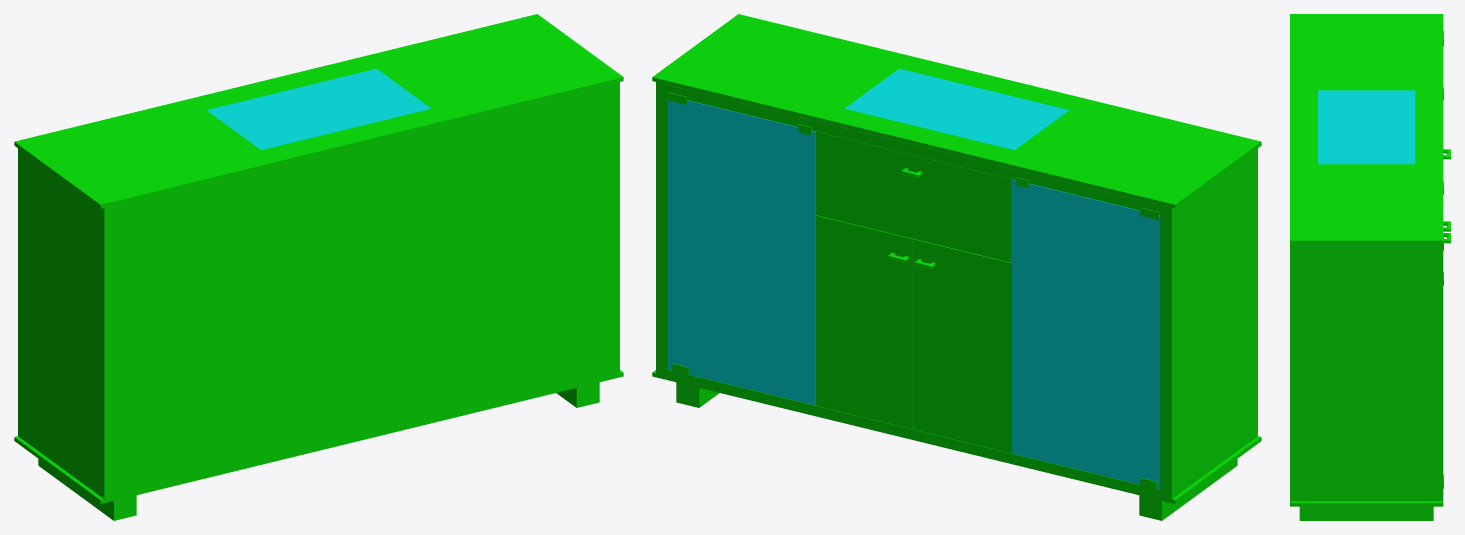
File: AparadorASpenG_low.fbx
3 renders of one model, left to right at view 1: azimuth 30°, elevation 25°; view 2: azimuth 150°, elevation 25°; view 3: azimuth 270°, elevation 25°, orthographic. The views are drawn at different scales.
Parts seen in each view (by area): view 1: Top, CristalTop; view 2: Top, PuertaDerecha1, PuertaIzquierda1, PDerecha, PIzquierda, Cajon, CristalTop; view 3: Top, CristalTop.
Part boxes in pixels (x1,y1,x2,y2): Top: (14, 14, 623, 520); CristalTop: (206, 68, 431, 150); Top: (652, 14, 1261, 520); PuertaDerecha1: (1012, 177, 1160, 489); PuertaIzquierda1: (667, 92, 815, 405); PDerecha: (914, 239, 1011, 453); PIzquierda: (816, 215, 913, 429); Cajon: (816, 131, 1011, 262); CristalTop: (844, 68, 1069, 150); Top: (1290, 14, 1443, 520); CristalTop: (1318, 90, 1415, 164).
Bounding box in the file's own units: 140 × 83.02 × 42.
